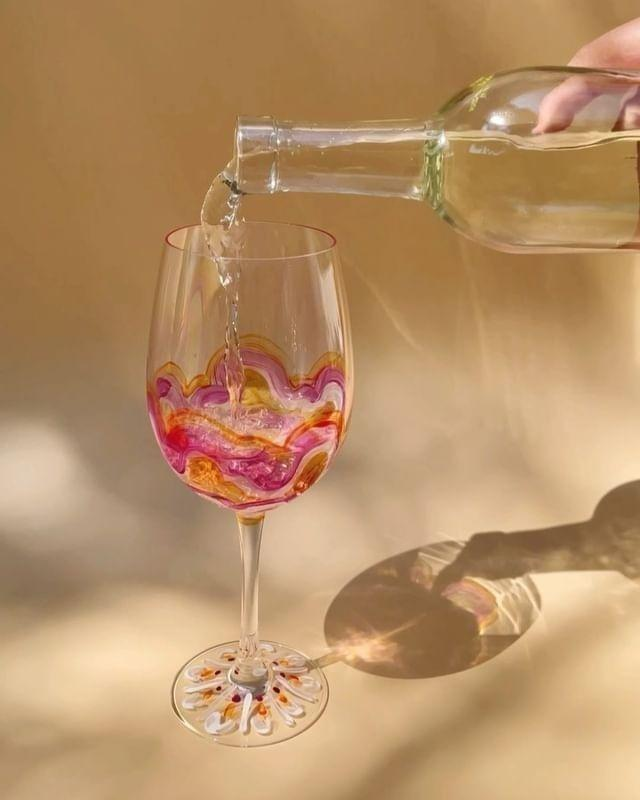bottle-glass: (225, 69, 640, 256)
glass-wine: (135, 219, 372, 754)
